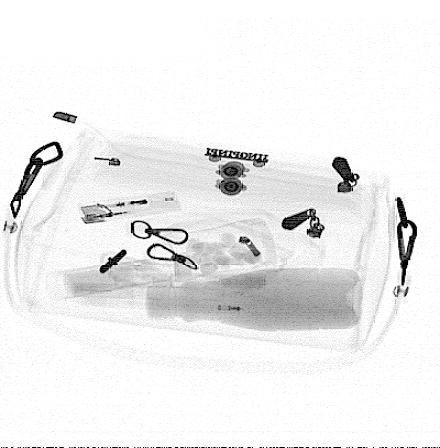Lighter: (78, 191, 181, 225)
